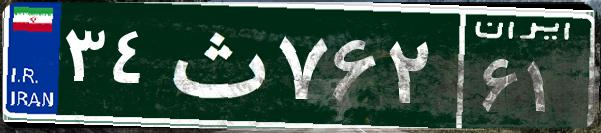1: (525, 38, 570, 115)
2: (385, 28, 445, 110)
3: (57, 26, 110, 107)
4: (110, 28, 158, 105)
6: (330, 28, 385, 110), (475, 38, 525, 113)
7: (273, 28, 330, 110)
ث: (158, 15, 273, 115)
